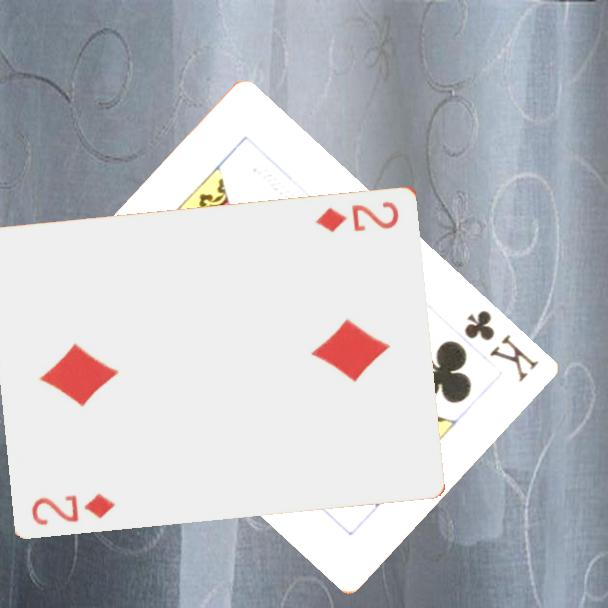c13: (460, 306, 541, 386)
d02: (28, 489, 118, 528), (313, 197, 402, 234)
